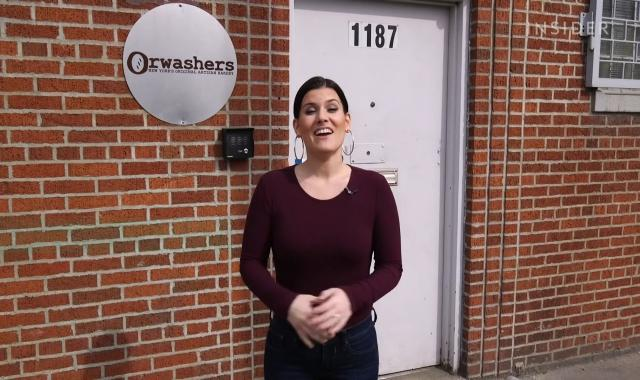no_hairnet: (290, 75, 354, 157)
